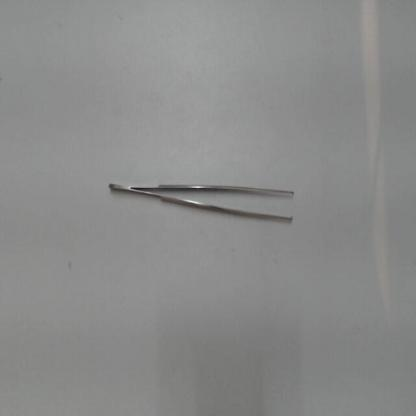Gillies Toothed Dissector: (100, 169, 299, 229)
